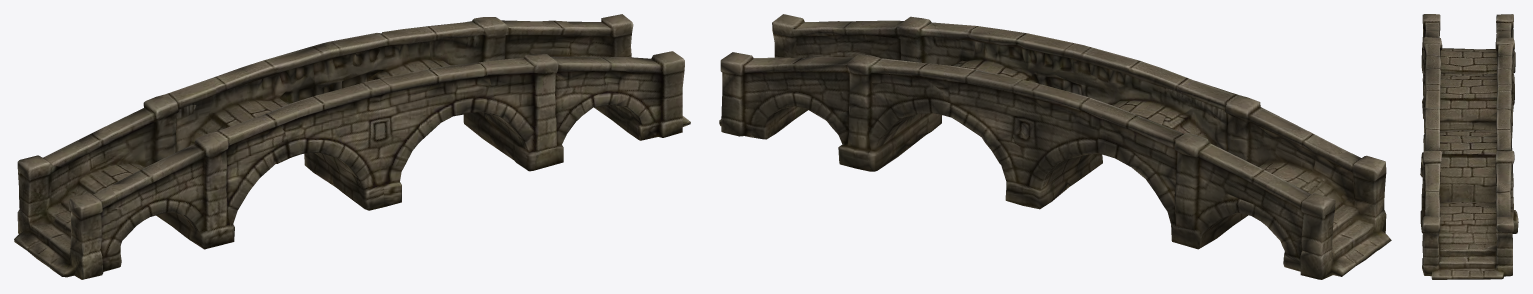
Rendered from lib_stone_bridge.far.glb.
3 views of the same model, side by side, from view 1: azimuth 30°, elevation 25°; view 2: azimuth 150°, elevation 25°; view 3: azimuth 270°, elevation 25° (orthographic). The views are drawn at different scales.
Parts seen in each view (by area): view 1: mesh_node; view 2: mesh_node; view 3: mesh_node.
Part boxes in pixels (<box>): mesh_node: <box>14,14,690,279</box>; mesh_node: <box>719,14,1391,279</box>; mesh_node: <box>1420,14,1518,279</box>.
Size of the model in its own units: 1.9 by 0.3398 by 0.3592.
Materials: 1 (1 with a texture image).
